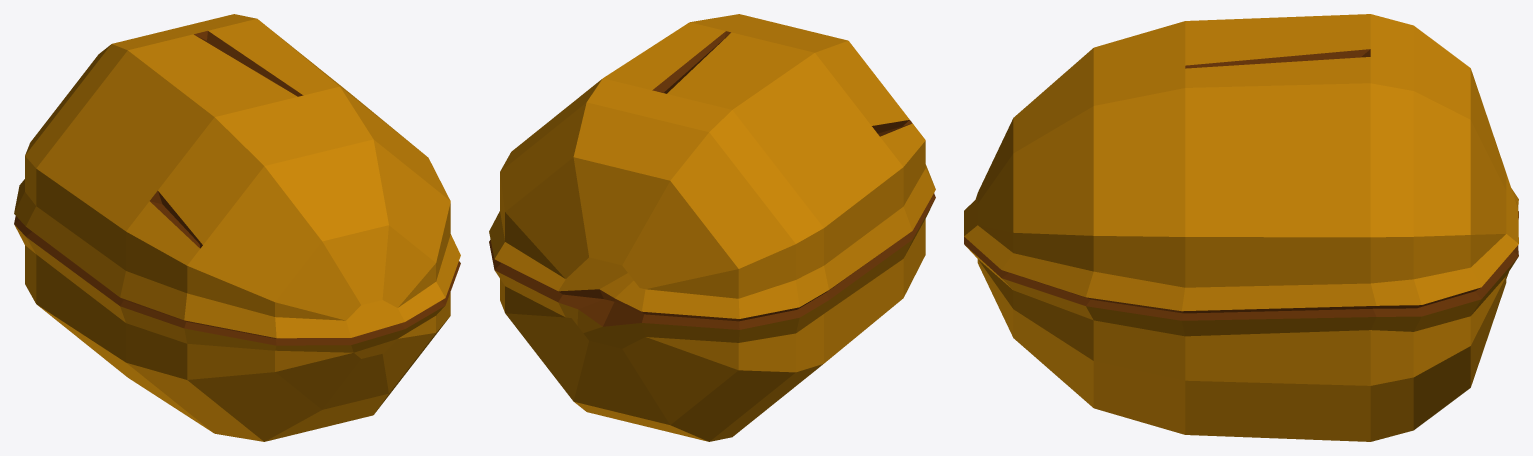
File: walnut01.fbx
The picture shows the model from 3 angles, left to right: view 1: azimuth 30°, elevation 25°; view 2: azimuth 150°, elevation 25°; view 3: azimuth 270°, elevation 25°; orthographic projection. The views are drawn at different scales.
Visible parts, largest first — view 1: Cylinder.001; view 2: Cylinder.001; view 3: Cylinder.001.
Part boxes in pixels (x1=…): Cylinder.001: x1=14, y1=14, x2=460, y2=441; Cylinder.001: x1=489, y1=14, x2=935, y2=441; Cylinder.001: x1=964, y1=14, x2=1518, y2=441.
Size of the model in its own units: 0.0325 by 0.0309 by 0.0434.
1 material, 1 textured.
